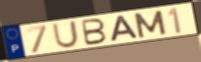1: (167, 7, 182, 35)
7: (26, 25, 48, 54)
A: (109, 14, 141, 42)
B: (81, 17, 108, 47)
M: (132, 9, 169, 39)
U: (52, 19, 81, 49)
